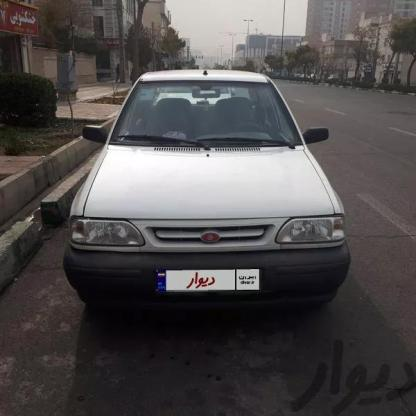Car: (51, 54, 345, 311)
